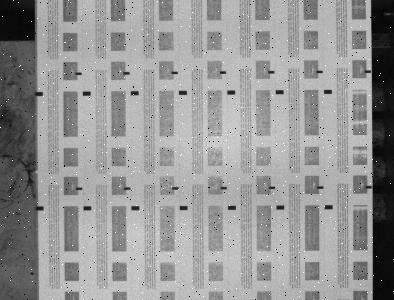backgroundclutter: (30, 272, 34, 275)
qblock: (324, 89, 333, 94), (83, 91, 91, 96), (179, 90, 187, 95), (228, 205, 236, 210), (131, 206, 140, 210), (35, 92, 43, 96), (36, 206, 44, 210), (131, 91, 139, 95), (276, 90, 284, 94), (228, 90, 236, 94), (83, 206, 91, 210), (325, 205, 333, 209), (277, 205, 285, 209), (180, 206, 188, 210)
smallqblock: (123, 71, 130, 75), (268, 70, 275, 74), (221, 186, 227, 190), (75, 72, 82, 75), (220, 71, 227, 74), (76, 187, 83, 190), (365, 70, 372, 73), (124, 187, 131, 190), (269, 186, 276, 189), (172, 187, 179, 190), (366, 186, 373, 189), (172, 71, 178, 74), (317, 70, 323, 73), (318, 186, 324, 189)
